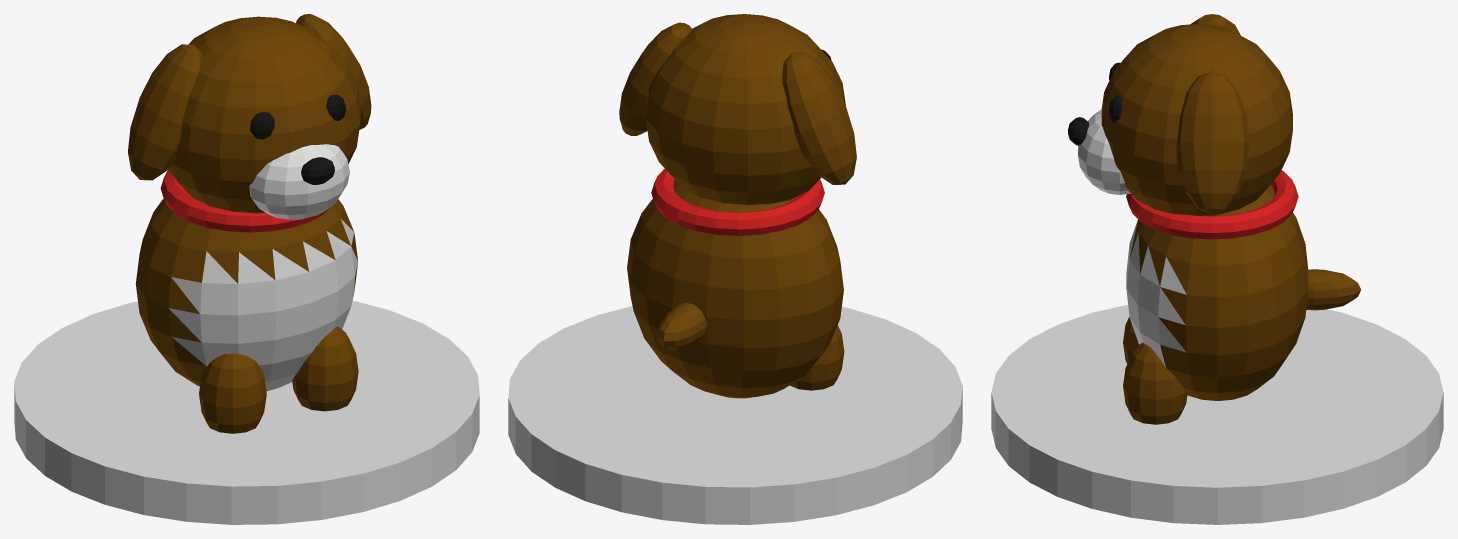
The model's file is preview.glb.
3 renders of one model, left to right at view 1: azimuth 30°, elevation 25°; view 2: azimuth 150°, elevation 25°; view 3: azimuth 270°, elevation 25°, orthographic. The views are drawn at different scales.
Parts seen in each view (by area): view 1: figurine_filaments; view 2: figurine_filaments; view 3: figurine_filaments.
Part boxes in pixels (box(x1,y1,x2,y2)): figurine_filaments: box(14, 14, 479, 524); figurine_filaments: box(508, 14, 962, 524); figurine_filaments: box(991, 14, 1443, 524).
Size of the model in its own units: 44 by 42.5 by 44.
